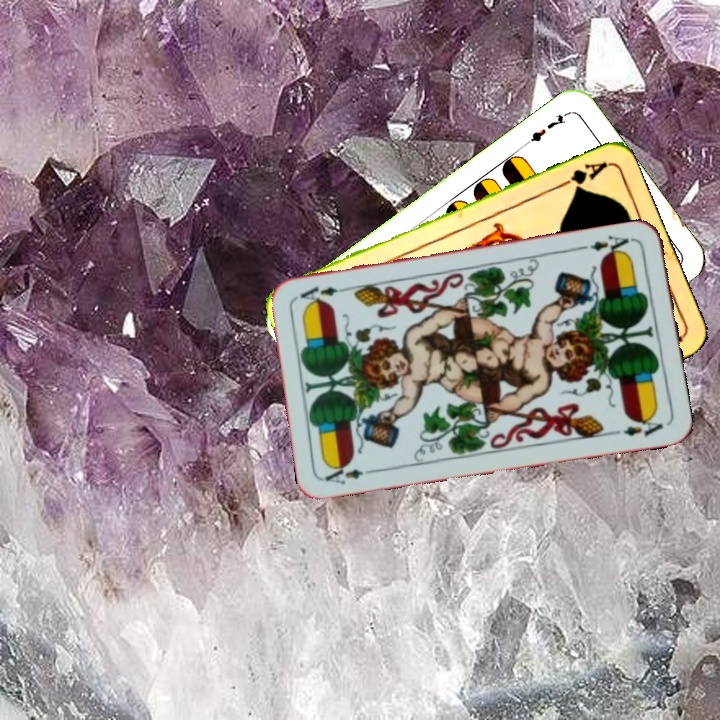E7: (520, 108, 572, 148)
EA: (321, 459, 380, 487), (586, 231, 638, 260)
GA: (554, 157, 610, 193)
